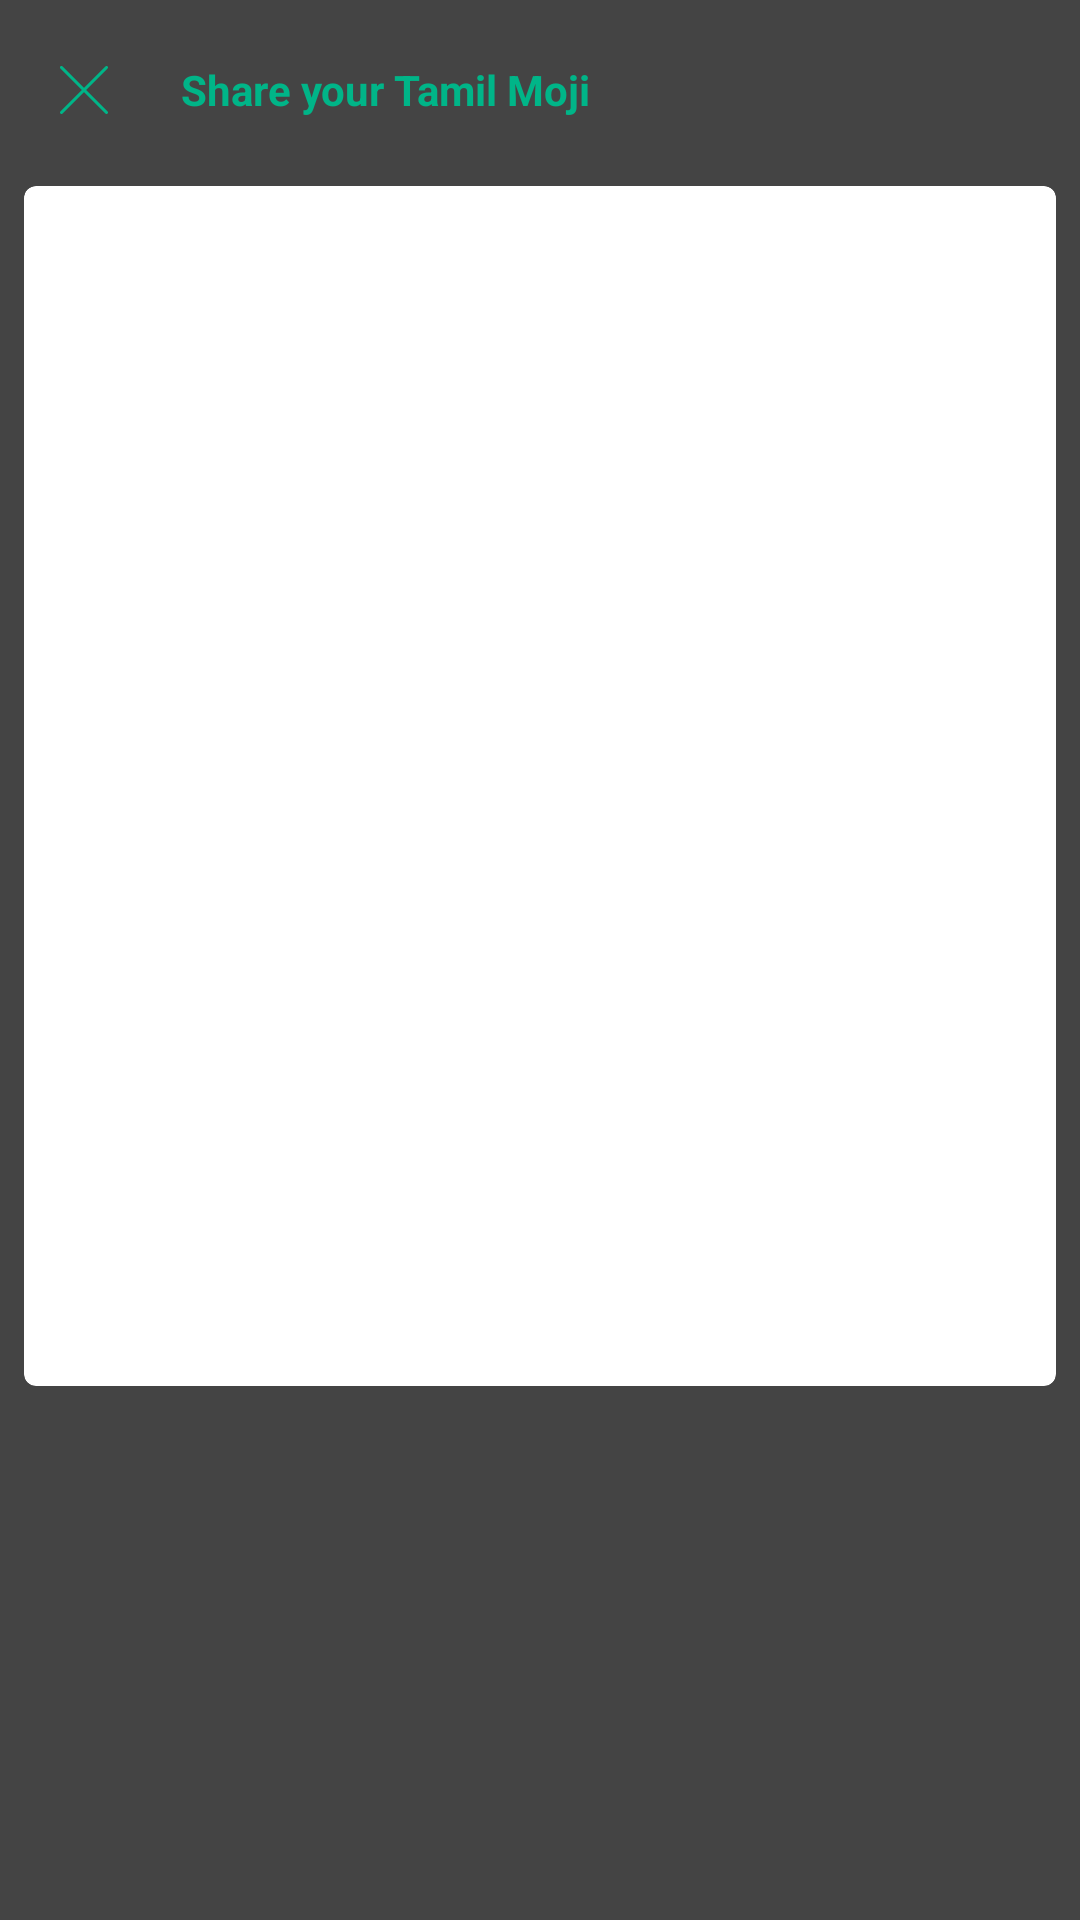

Icons on this 1080px x 1920px Android screen, each with the point to tap as point (x, y):
cross: point (84, 90)
